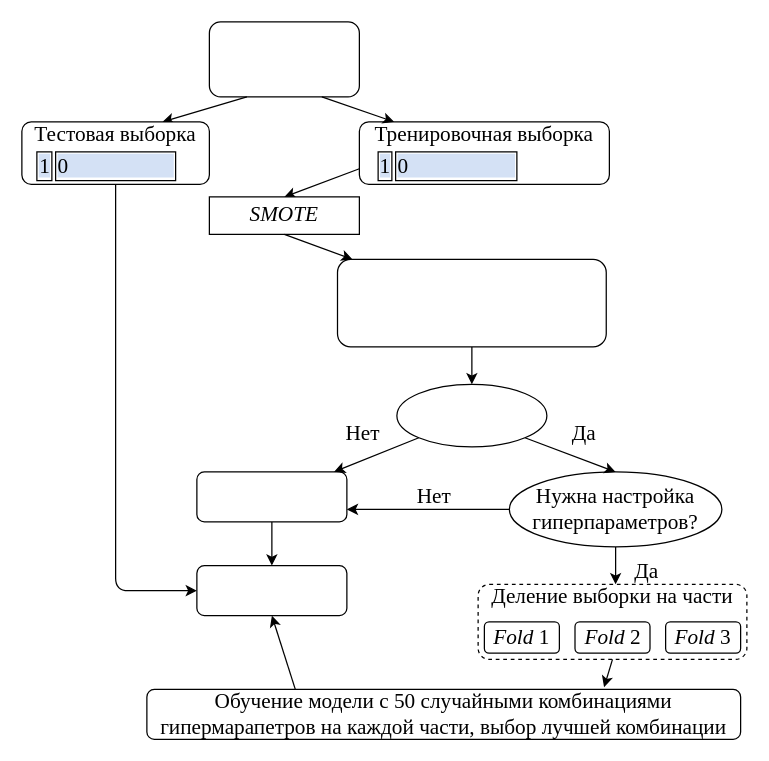
This 769x761 diagram has some shape labels left out. The centre of each missing label's shape, as x and y in pixels:
"Ансамблевая модель?" goes at point 471,415.
"Датасет финансовой отчетности" goes at point 283,59.
"Обучение модели" goes at point 271,496.
"Сбалансированная тренировочная выборка 1 0" goes at point 471,302.
"Тестирование модели" goes at point 271,590.
